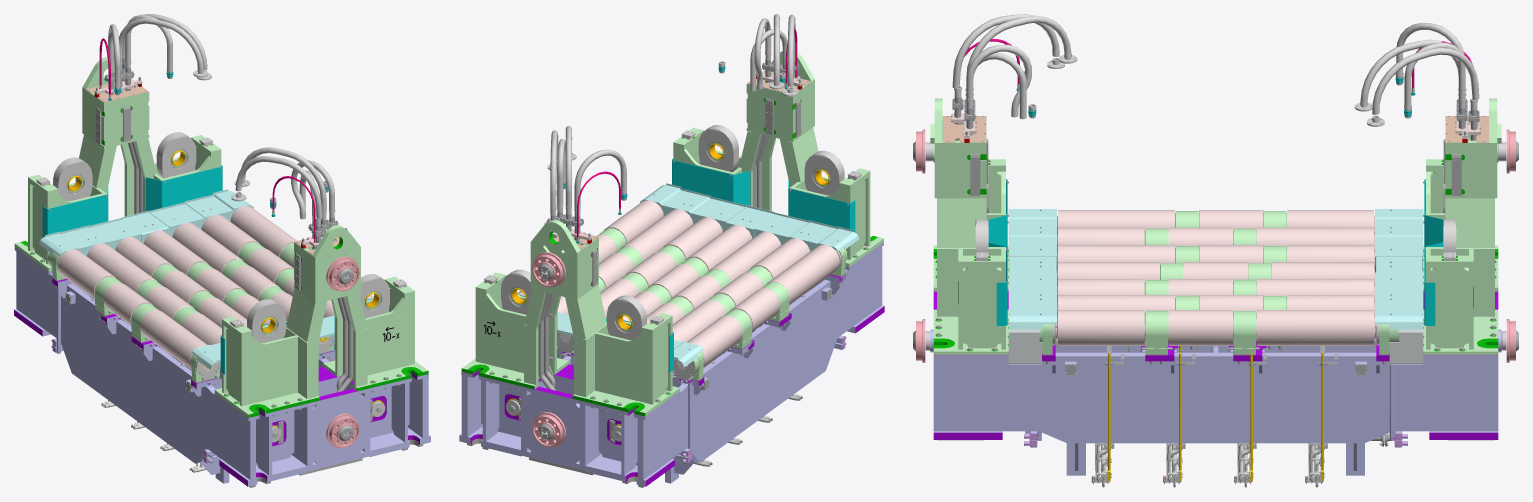
The model's file is SEGMENT_10_FIXED_SIDE_FRAME.glb.
3 views of the same model, side by side, from view 1: azimuth 30°, elevation 25°; view 2: azimuth 150°, elevation 25°; view 3: azimuth 270°, elevation 25° (orthographic). The views are drawn at different scales.
Parts seen in each view (by area): view 1: Model, ROLLER_7_1, ROLLER_3_3, ROLLER_7_3, ROLLER_7_2, ROLLER_3_2, ROLLER_2_3, ROLLER_4_3, ROLLER_2_2; view 2: Model, ROLLER_7_1, ROLLER_7_3, ROLLER_2_1, ROLLER_3_1, ROLLER_7_2, ROLLER_3_2, ROLLER_4_1, ROLLER_1_1; view 3: Model, ROLLER_1_1, ROLLER_1_3, ROLLER_3_3, ROLLER_7_3, ROLLER_7_1, ROLLER_2_1, ROLLER_3_1.
Part boxes in pixels (box(x1,y1,x2,y2)): Model: box(14, 14, 430, 487); ROLLER_7_1: box(140, 309, 214, 370); ROLLER_3_3: box(172, 222, 243, 272); ROLLER_7_3: box(58, 249, 116, 298); ROLLER_7_2: box(103, 286, 153, 325); ROLLER_3_2: box(231, 265, 280, 299); ROLLER_2_3: box(201, 214, 258, 255); ROLLER_4_3: box(143, 230, 206, 274); ROLLER_2_2: box(247, 248, 291, 282); Model: box(459, 14, 884, 487); ROLLER_7_1: box(767, 247, 839, 304); ROLLER_7_3: box(687, 317, 742, 366); ROLLER_2_1: box(620, 209, 693, 260); ROLLER_3_1: box(663, 217, 722, 259); ROLLER_7_2: box(730, 291, 780, 331); ROLLER_3_2: box(628, 251, 675, 286); ROLLER_4_1: box(686, 226, 752, 270); ROLLER_1_1: box(604, 201, 663, 242); Model: box(913, 14, 1518, 487); ROLLER_1_1: box(1055, 310, 1145, 345); ROLLER_1_3: box(1256, 310, 1376, 345); ROLLER_3_3: box(1256, 279, 1374, 301); ROLLER_7_3: box(1287, 210, 1374, 234); ROLLER_7_1: box(1057, 210, 1175, 233); ROLLER_2_1: box(1057, 295, 1175, 316); ROLLER_3_1: box(1057, 279, 1144, 301).
Size of what is drawn, in the model's own units: 2.51 by 4 by 5.37.
